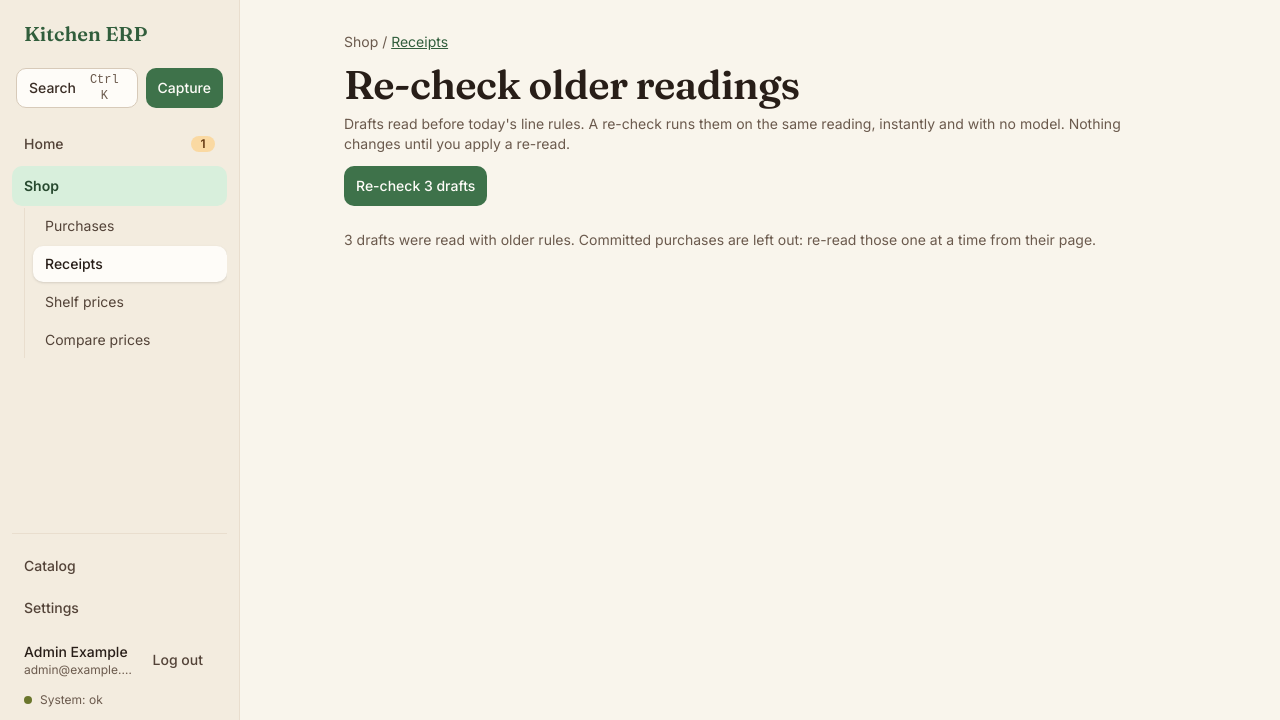
Test: re-check drafts read with older rules (issue 382) › re-checks them and lists the drafts whose lines would change
The image size is (1280, 720).
Expected: the heading "Re-check older readings" is shown, [344,60,800,109]
Expected: the text "3 drafts were read with older rules" is shown, [344,230,1176,250]
Click the button "Re-check 3 drafts" at x=416, y=186, box [344,166,487,206]
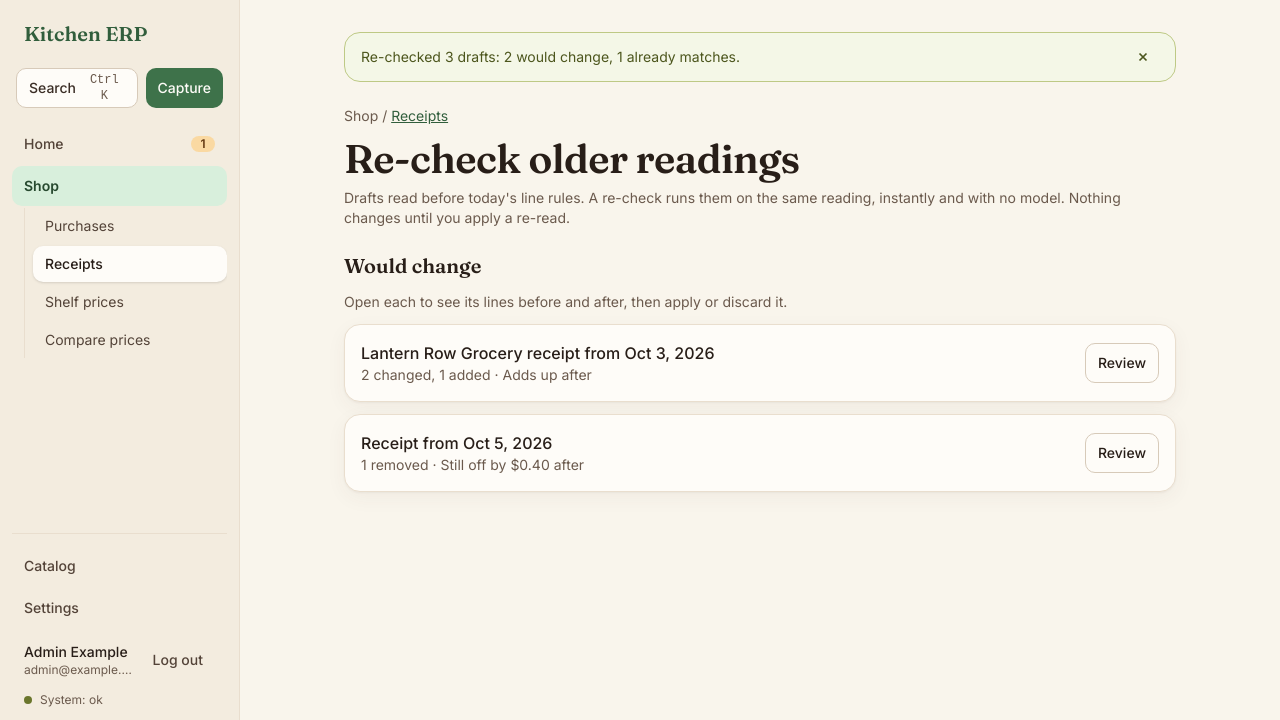
Now the text "Re-checked 3 drafts: 2 would change, 1 already matches." is shown, box [361,47,740,67]
Now the text "Lantern Row Grocery receipt from Oct 3, 2026" is shown, box [361,341,714,365]
Now the text "2 changed, 1 added · Adds up after" is shown, box [361,366,592,383]
